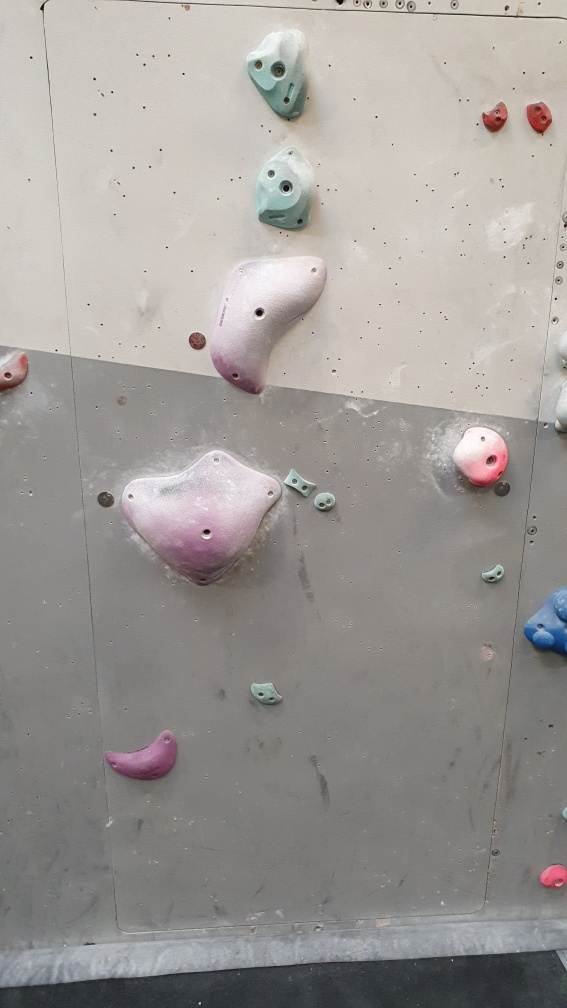Hand Start: (186, 327, 209, 352), (492, 477, 515, 499), (95, 487, 117, 510)
Jug: (245, 22, 316, 125), (253, 140, 316, 231)
Pinch: (280, 468, 319, 500), (477, 562, 509, 588)
Sloper: (522, 582, 567, 665)
